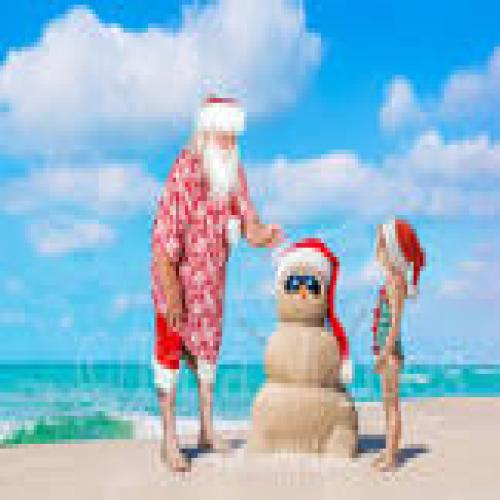Santa: (148, 92, 284, 478)
